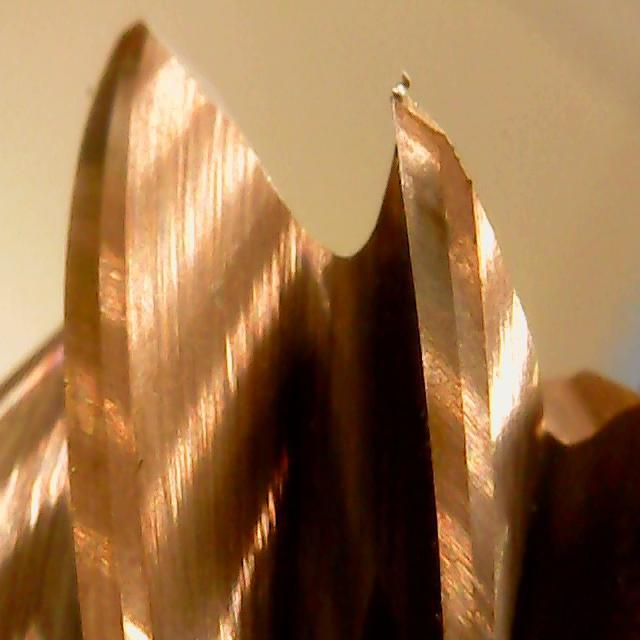Tool-wear-class-0: (377, 87, 504, 444)
